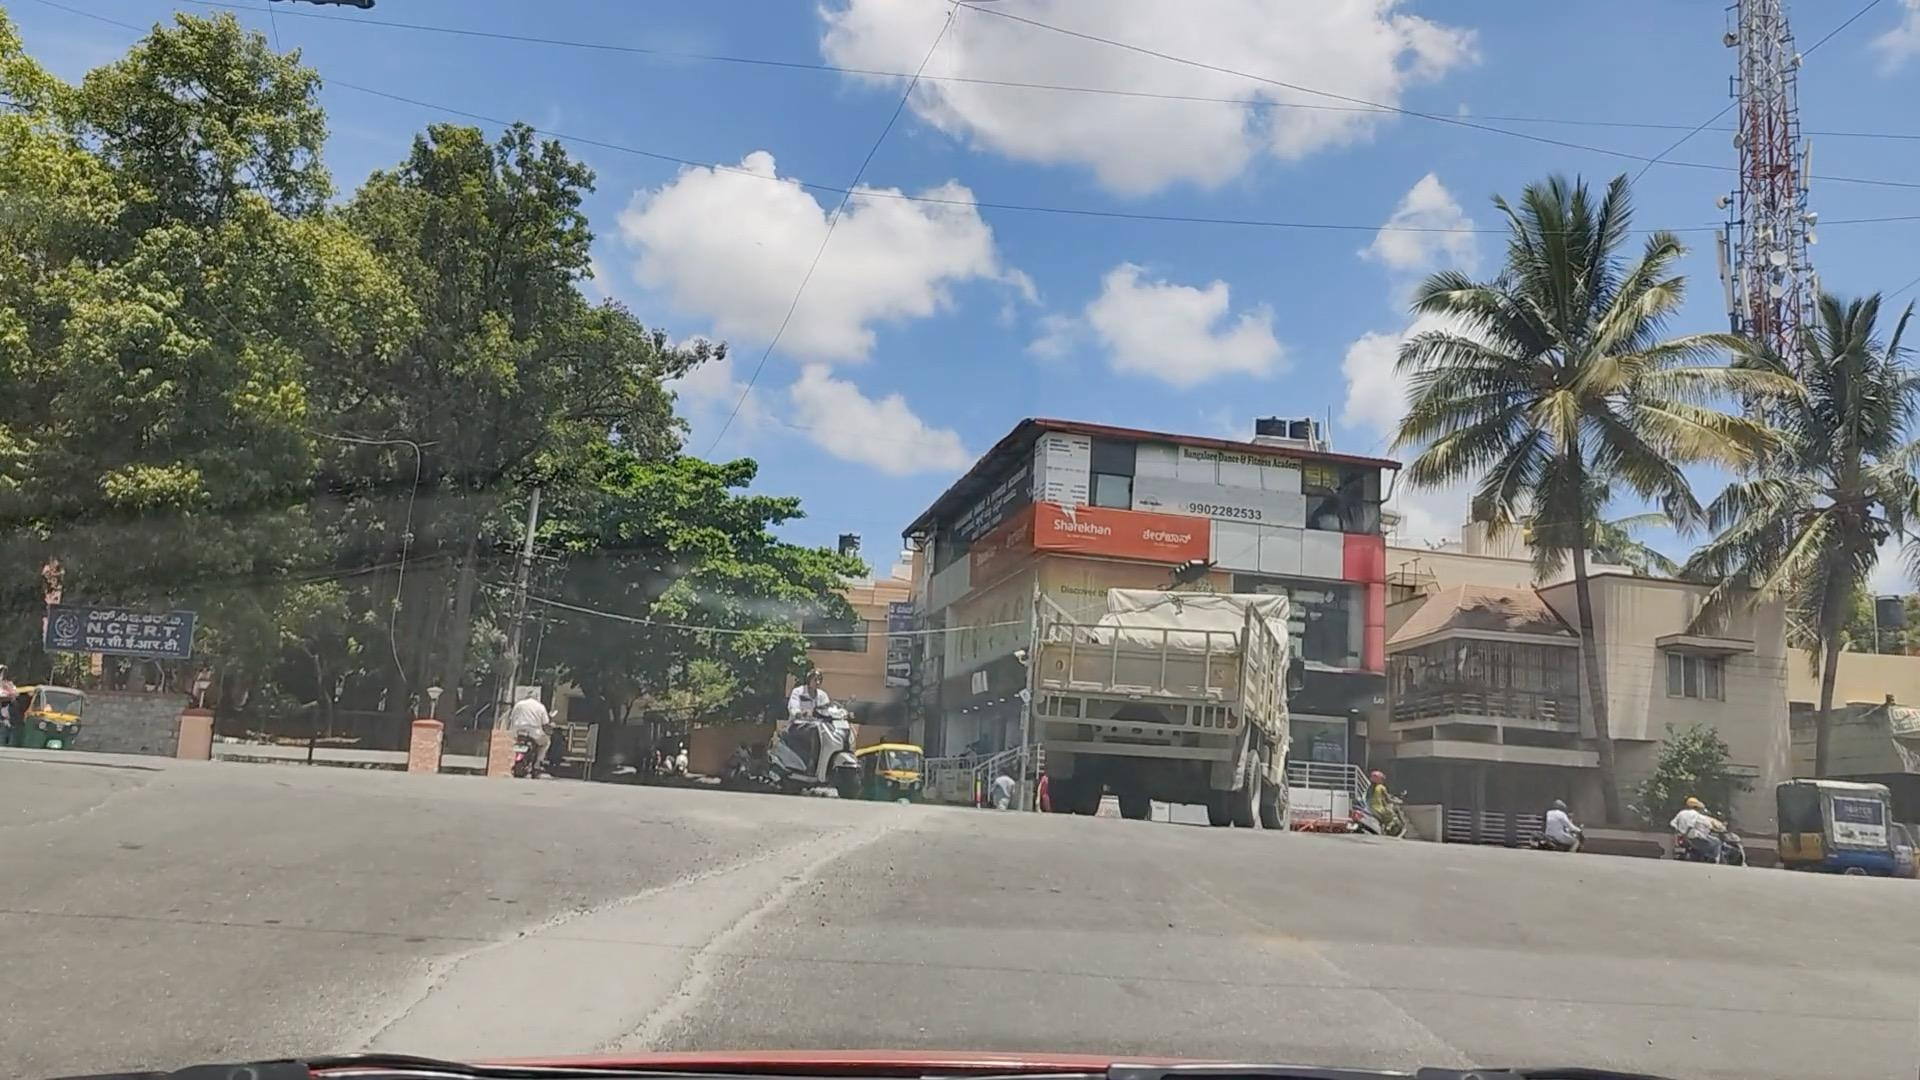HMV: (1034, 580, 1280, 814)
LMV: (764, 646, 906, 803)
RoadDamages: (336, 810, 899, 1064)
